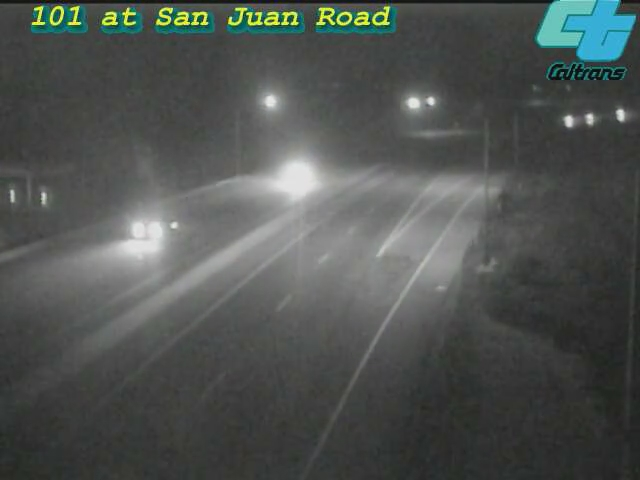vehicle: (105, 192, 185, 272), (254, 139, 334, 219), (568, 93, 618, 143), (544, 96, 594, 146), (595, 90, 640, 140)
